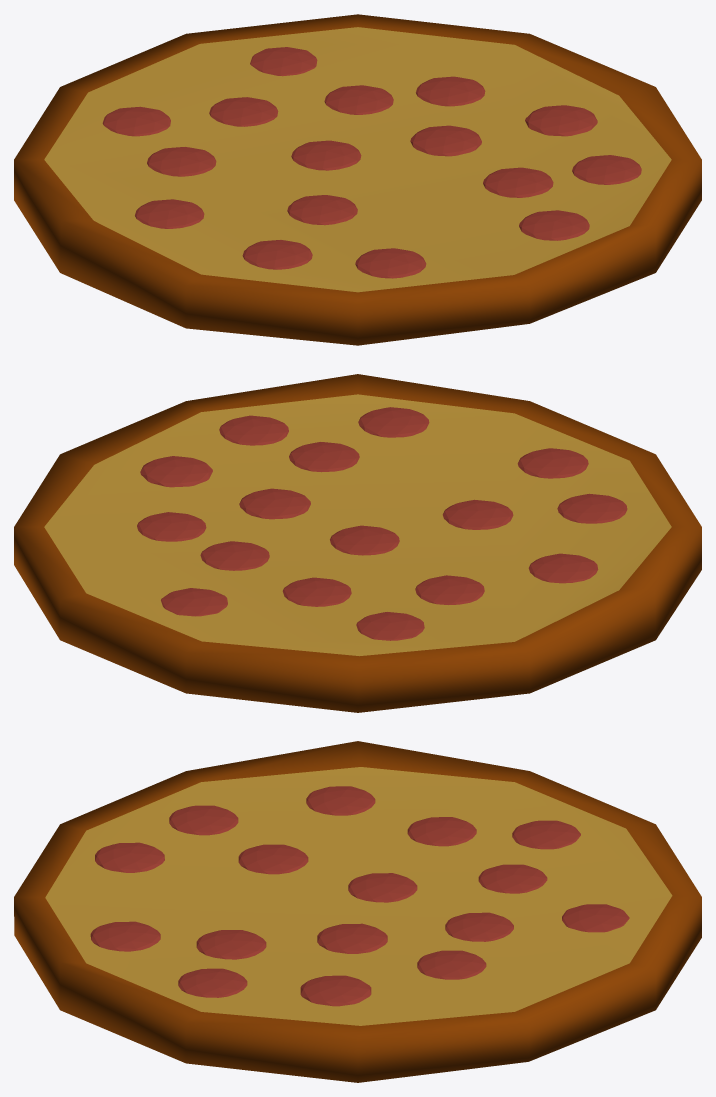
The model's file is pepperoni_pizza.glb.
3 views of the same model, one above another, from view 1: azimuth 30°, elevation 25°; view 2: azimuth 150°, elevation 25°; view 3: azimuth 270°, elevation 25° (orthographic).
Visible parts, largest first — view 1: Cylinder, Icosphere.018, Icosphere.019, Icosphere.011, Icosphere.003, Icosphere.001, Icosphere.009, Icosphere.008, Icosphere.013, Icosphere.004, Icosphere.012, Icosphere.006 (+5 smaller); view 2: Cylinder, Icosphere.018, Icosphere.019, Icosphere.011, Icosphere.003, Icosphere.001, Icosphere.009, Icosphere.004, Icosphere.013, Icosphere.008, Icosphere.005, Icosphere.006 (+5 smaller); view 3: Cylinder, Icosphere.018, Icosphere.019, Icosphere.003, Icosphere.009, Icosphere.011, Icosphere.001, Icosphere.004, Icosphere.008, Icosphere.005, Icosphere.013, Icosphere.012 (+5 smaller).
Part boxes in pixels (left/top/right/bottom): Cylinder: left=14, top=14, right=701, bottom=345; Icosphere.018: left=525, top=105, right=597, bottom=136; Icosphere.019: left=410, top=125, right=481, bottom=156; Icosphere.011: left=519, top=210, right=589, bottom=240; Icosphere.003: left=355, top=248, right=426, bottom=278; Icosphere.001: left=483, top=167, right=553, bottom=197; Icosphere.009: left=287, top=195, right=357, bottom=225; Icosphere.008: left=291, top=140, right=361, bottom=170; Icosphere.013: left=572, top=155, right=641, bottom=184; Icosphere.004: left=242, top=240, right=312, bottom=269; Icosphere.012: left=416, top=76, right=485, bottom=106; Icosphere.006: left=147, top=147, right=216, bottom=176; Cylinder: left=14, top=374, right=701, bottom=712; Icosphere.018: left=140, top=456, right=212, bottom=487; Icosphere.019: left=239, top=488, right=310, bottom=519; Icosphere.011: left=358, top=407, right=429, bottom=437; Icosphere.003: left=517, top=448, right=588, bottom=478; Icosphere.001: left=289, top=442, right=359, bottom=472; Icosphere.009: left=442, top=499, right=513, bottom=529; Icosphere.004: left=557, top=493, right=627, bottom=523; Icosphere.013: left=219, top=415, right=288, bottom=445; Icosphere.008: left=330, top=525, right=399, bottom=555; Icosphere.005: left=528, top=553, right=598, bottom=583; Icosphere.006: left=415, top=575, right=484, bottom=604; Cylinder: left=14, top=741, right=701, bottom=1082; Icosphere.018: left=300, top=975, right=371, bottom=1006; Icosphere.019: left=317, top=923, right=387, bottom=953; Icosphere.003: left=95, top=842, right=164, bottom=872; Icosphere.009: left=238, top=844, right=308, bottom=874; Icosphere.011: left=90, top=921, right=160, bottom=951; Icosphere.001: left=196, top=930, right=266, bottom=959; Icosphere.004: left=169, top=805, right=238, bottom=835; Icosphere.008: left=348, top=873, right=417, bottom=902; Icosphere.005: left=306, top=786, right=375, bottom=815; Icosphere.013: left=178, top=968, right=247, bottom=997; Icosphere.012: left=417, top=950, right=486, bottom=979.
Size of the model in its own units: 2 by 0.1734 by 2.
